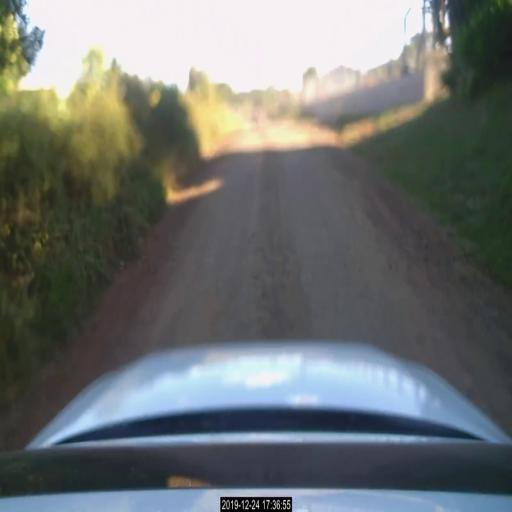Pothole: (246, 208, 316, 288)
